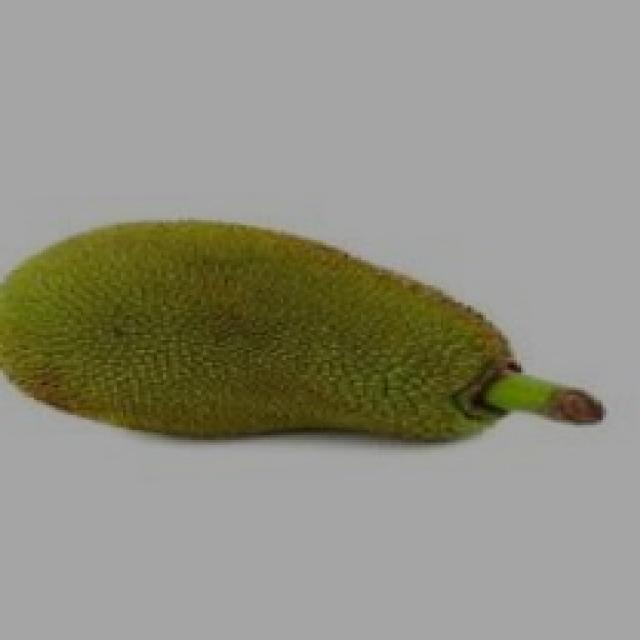Fruit: (0, 207, 400, 455)
